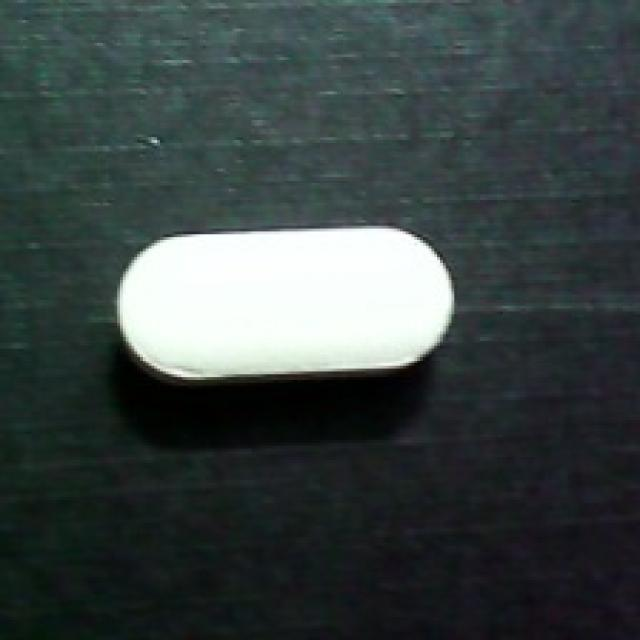no-defect: (111, 223, 460, 394)
